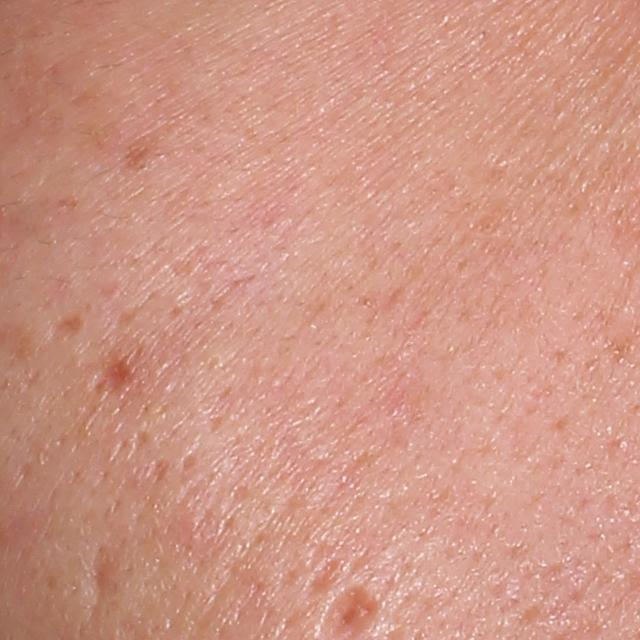atrophic_scar: (301, 556, 351, 603), (90, 539, 121, 602), (95, 355, 137, 396), (49, 307, 87, 341)
melasma: (126, 136, 167, 176)
